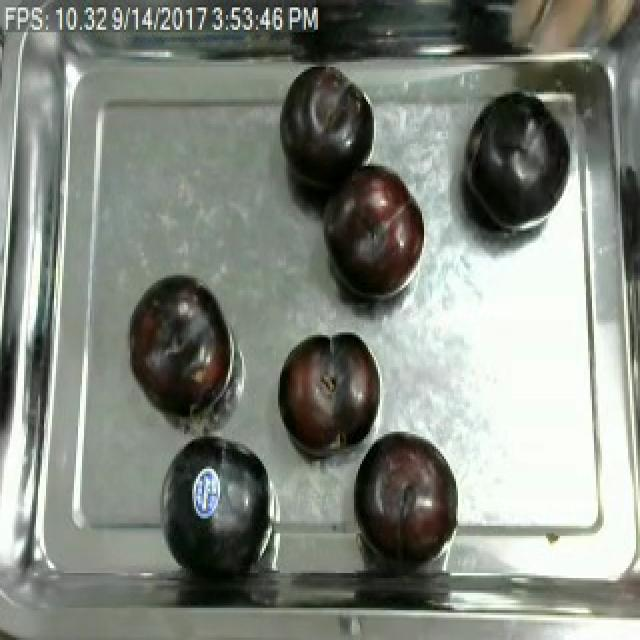Fruit: (154, 429, 282, 583), (454, 82, 574, 240), (316, 151, 430, 308), (122, 273, 234, 422), (350, 426, 462, 566), (272, 325, 384, 461), (276, 62, 378, 198)
